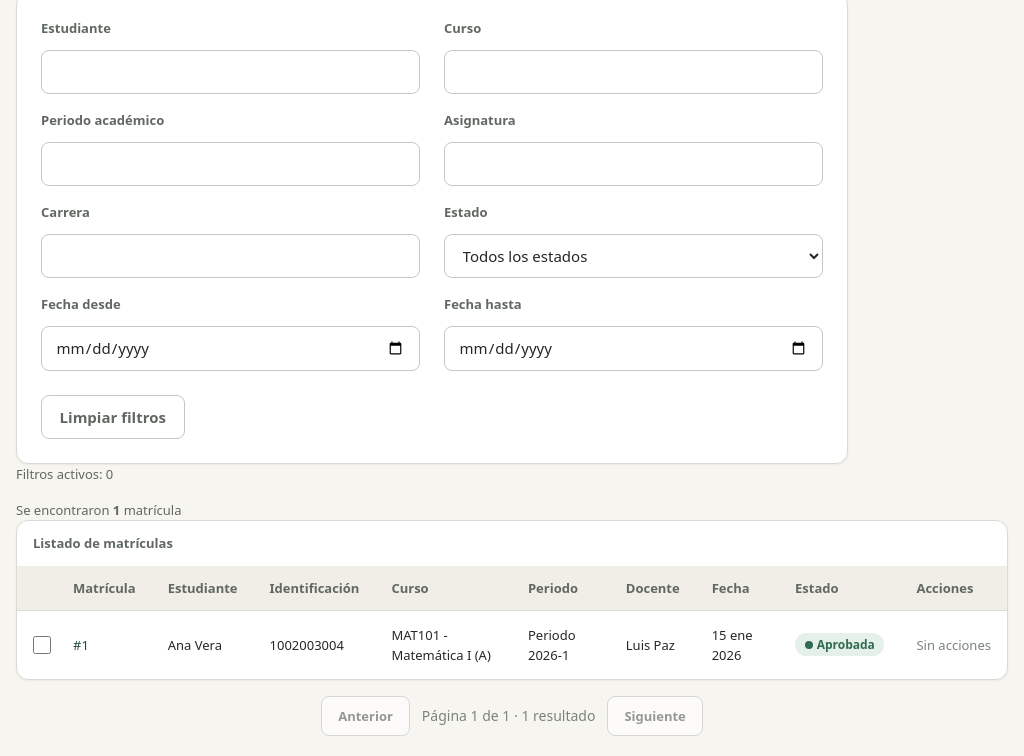
it: ListarMatriculasComponent › para una matrícula no inscrita la barra muestra solo Ver
(page scrolled)
Step 1. Click the cell "#1" → (104,644), box [57,610,152,679]
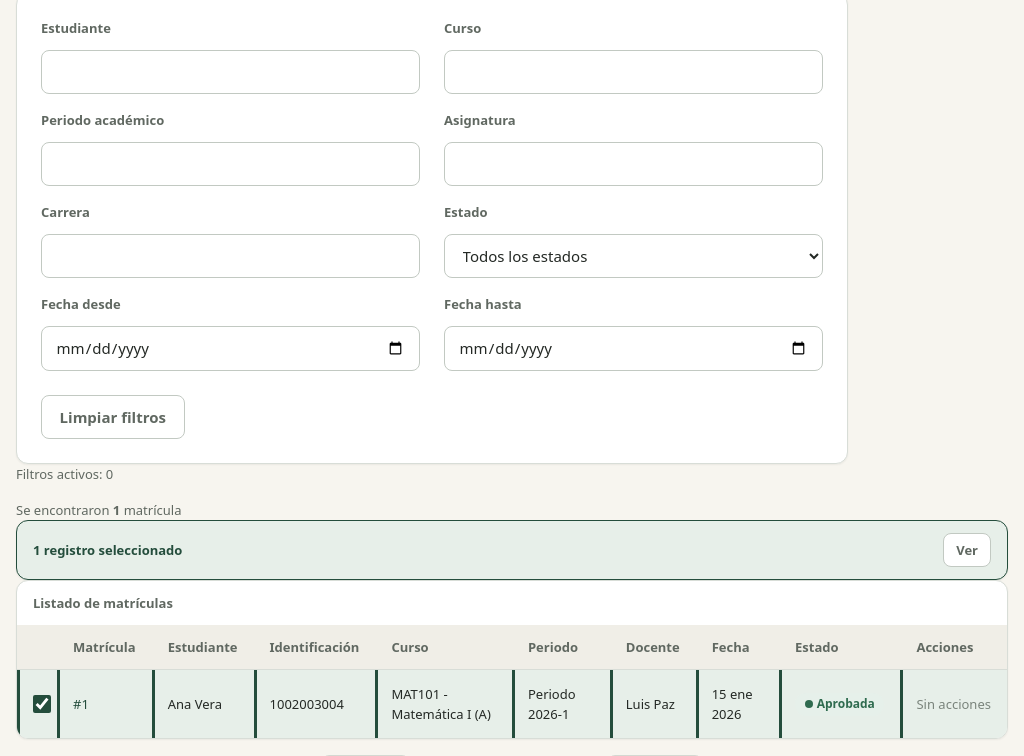
expect the button "Ver" is shown: met, box [943,533,991,567]
